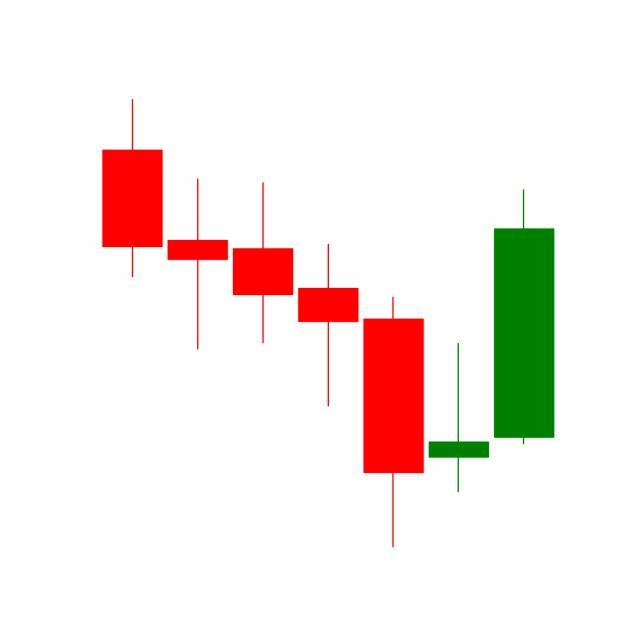Hikkake Pattern: (229, 179, 555, 549)
